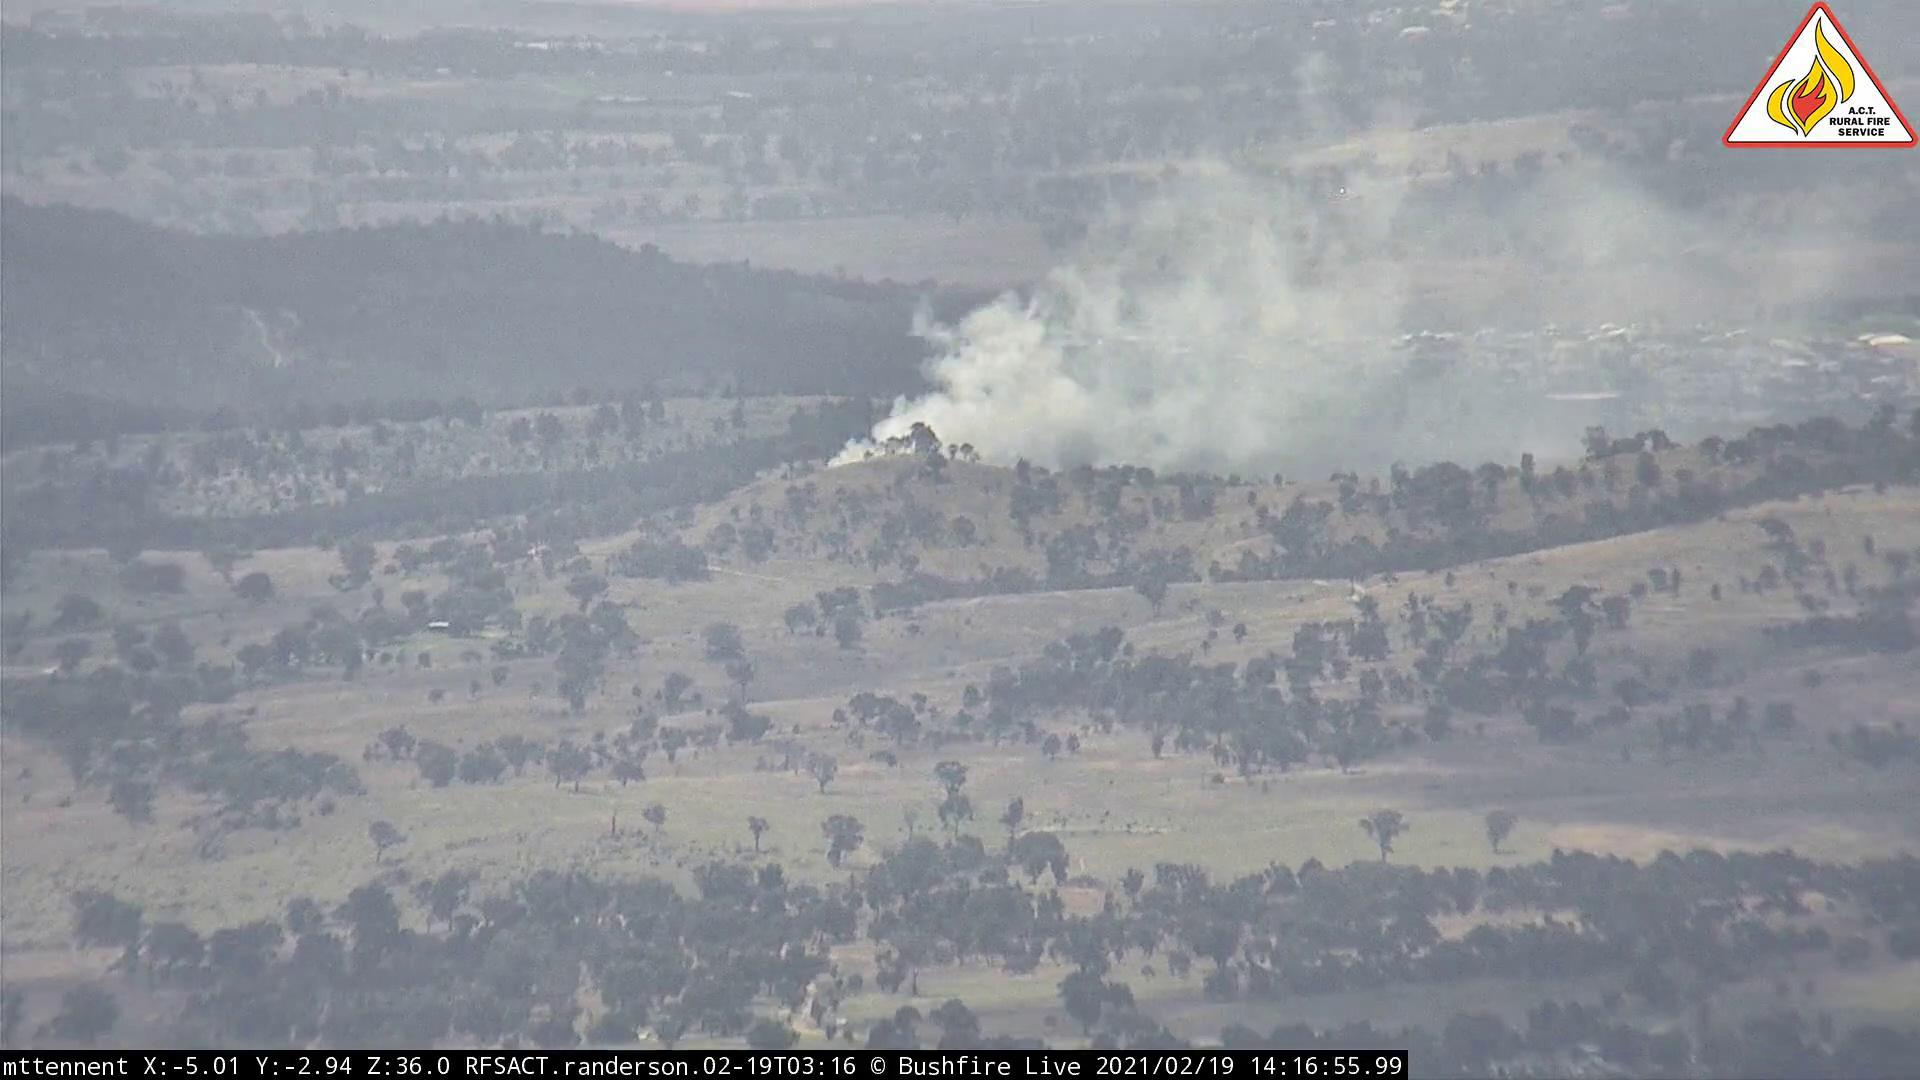instance_salient_object: (820, 108, 1526, 487)
